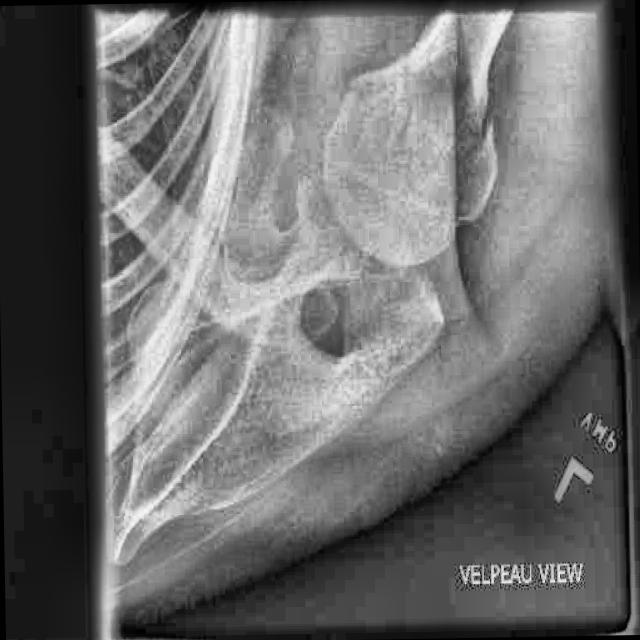shoulder fracture: (449, 79, 520, 184)
